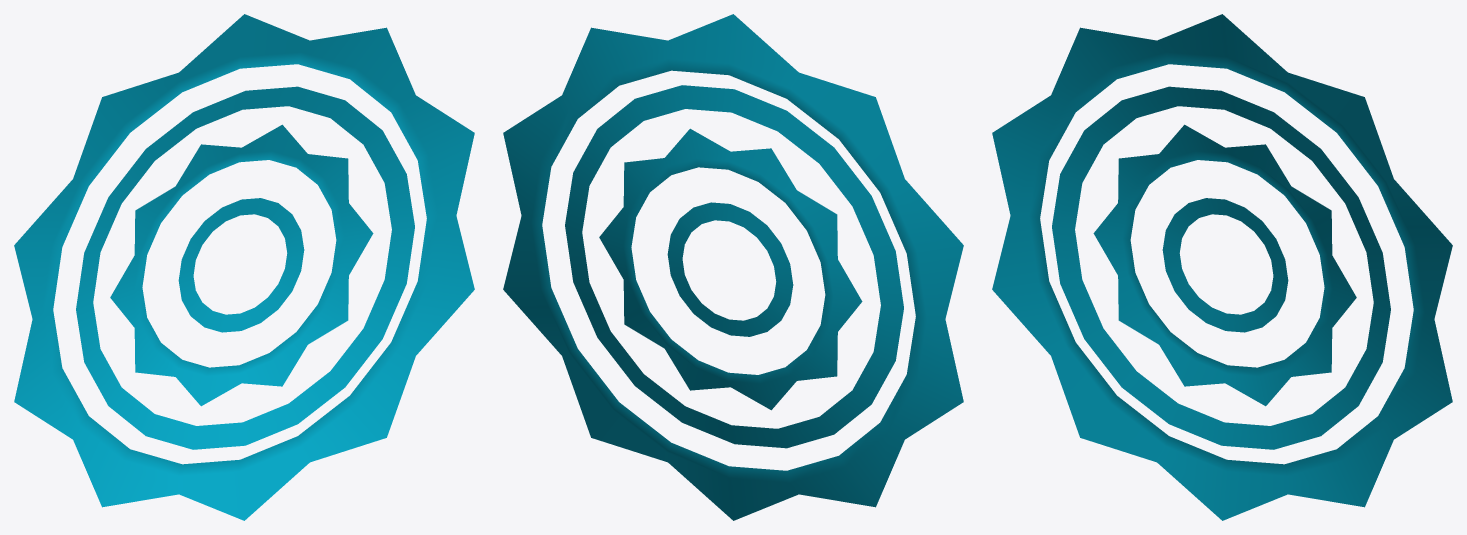
The model's file is NodeModel.fbx.
The picture shows the model from 3 angles, left to right: view 1: azimuth 30°, elevation 25°; view 2: azimuth 150°, elevation 25°; view 3: azimuth 330°, elevation 25°; orthographic projection.
Visible parts, largest first — view 1: FLower; view 2: FLower; view 3: FLower.
Boxes of the visible parts, <box> form: FLower: <box>14,14,474,520</box>; FLower: <box>503,14,963,520</box>; FLower: <box>992,14,1452,520</box>.
Size of the model in its own units: 89.41 by 94.01 by 2.05.
